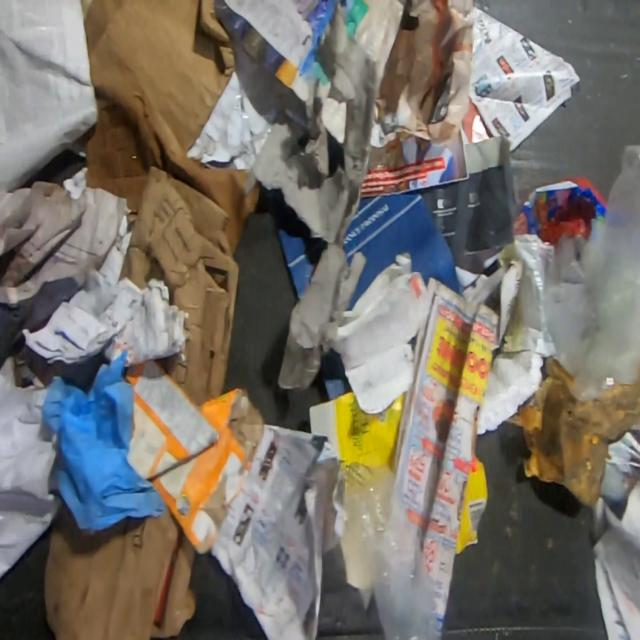cardboard: (81, 0, 259, 246), (124, 358, 264, 553), (132, 164, 240, 411), (44, 503, 200, 640), (504, 356, 640, 512), (308, 391, 406, 466), (453, 452, 487, 556)
soft_plastic: (543, 142, 640, 403), (330, 458, 443, 639)
